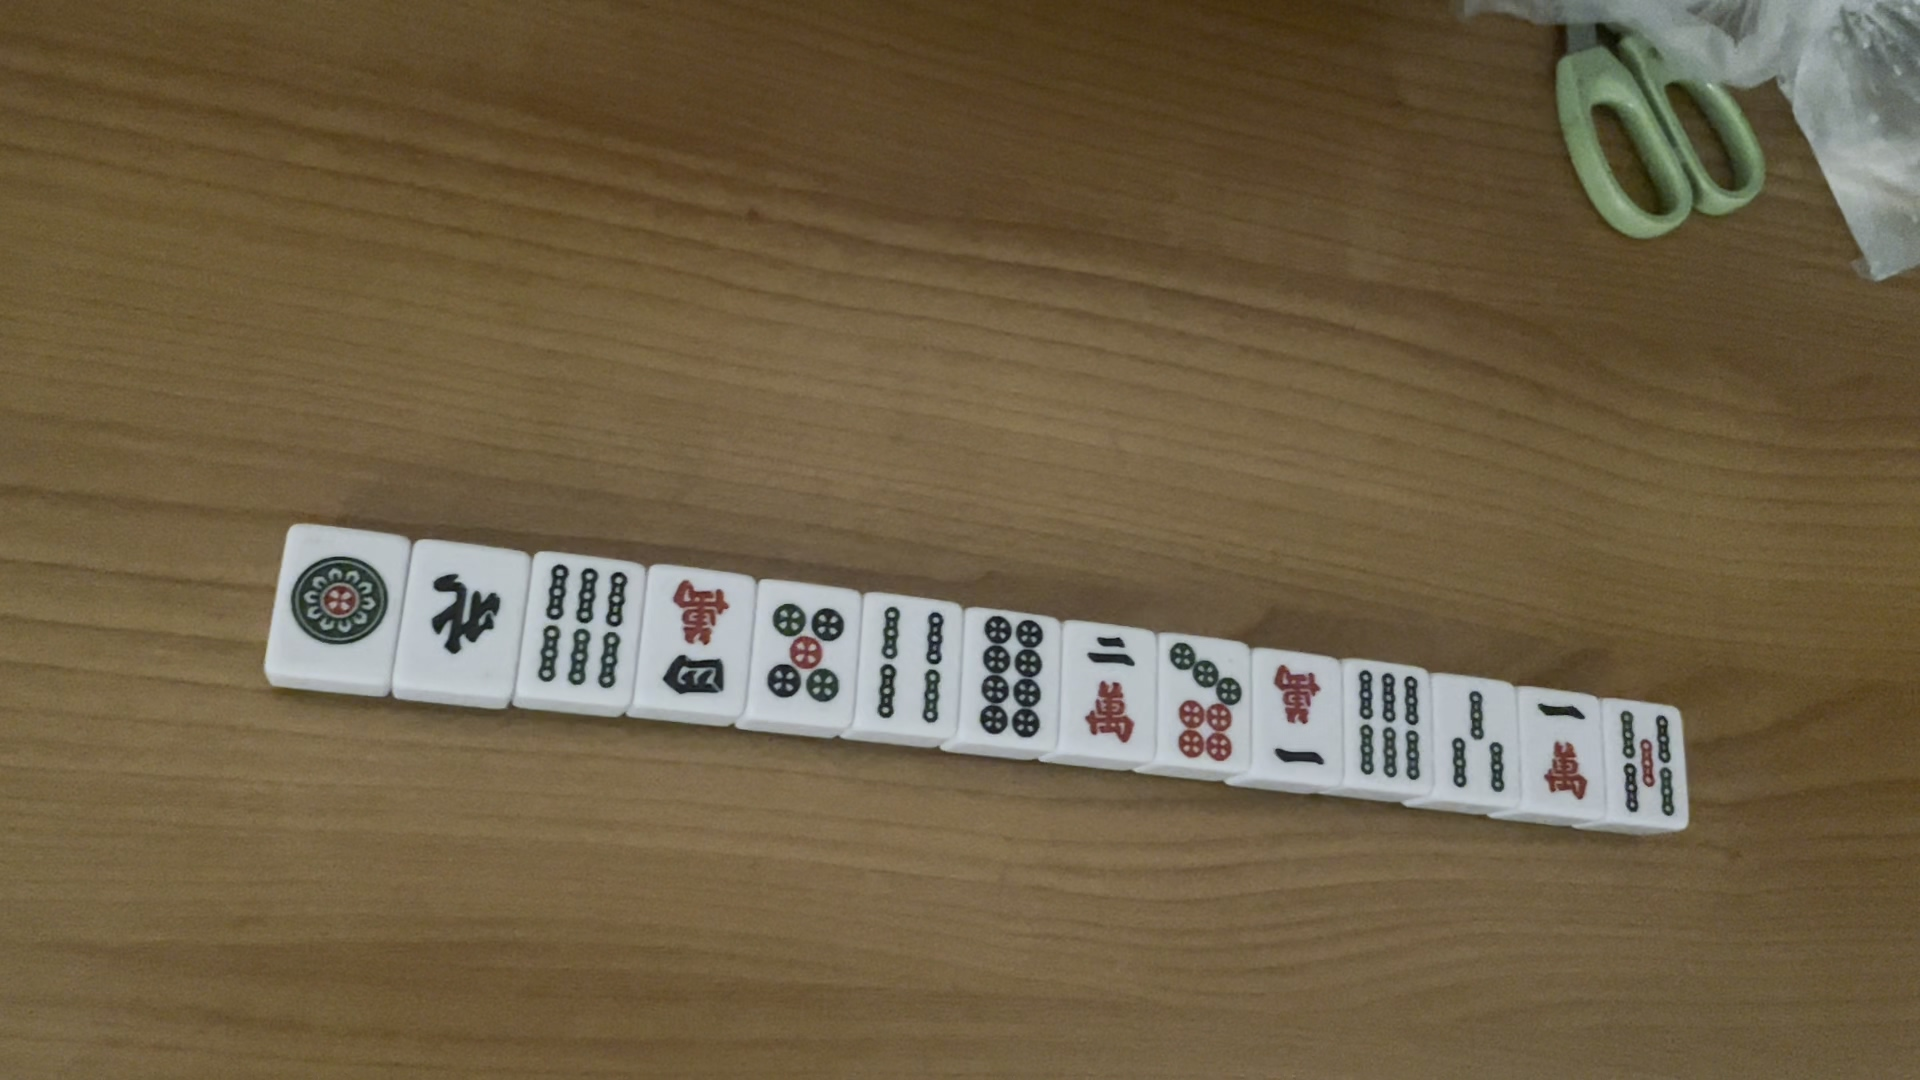b-3: (1445, 684, 1509, 795)
b-4: (872, 603, 951, 727)
b-5: (1609, 704, 1683, 822)
b-6: (531, 560, 628, 694), (1348, 667, 1425, 783)
c-1: (1528, 688, 1600, 808), (1261, 654, 1331, 775)
c-2: (1076, 636, 1141, 744)
c-4: (655, 572, 736, 705)
d-1: (280, 551, 393, 659)
d-5: (760, 599, 849, 705)
d-7: (1160, 637, 1241, 764)
d-8: (976, 615, 1047, 746)
honors-north: (423, 568, 502, 670)
